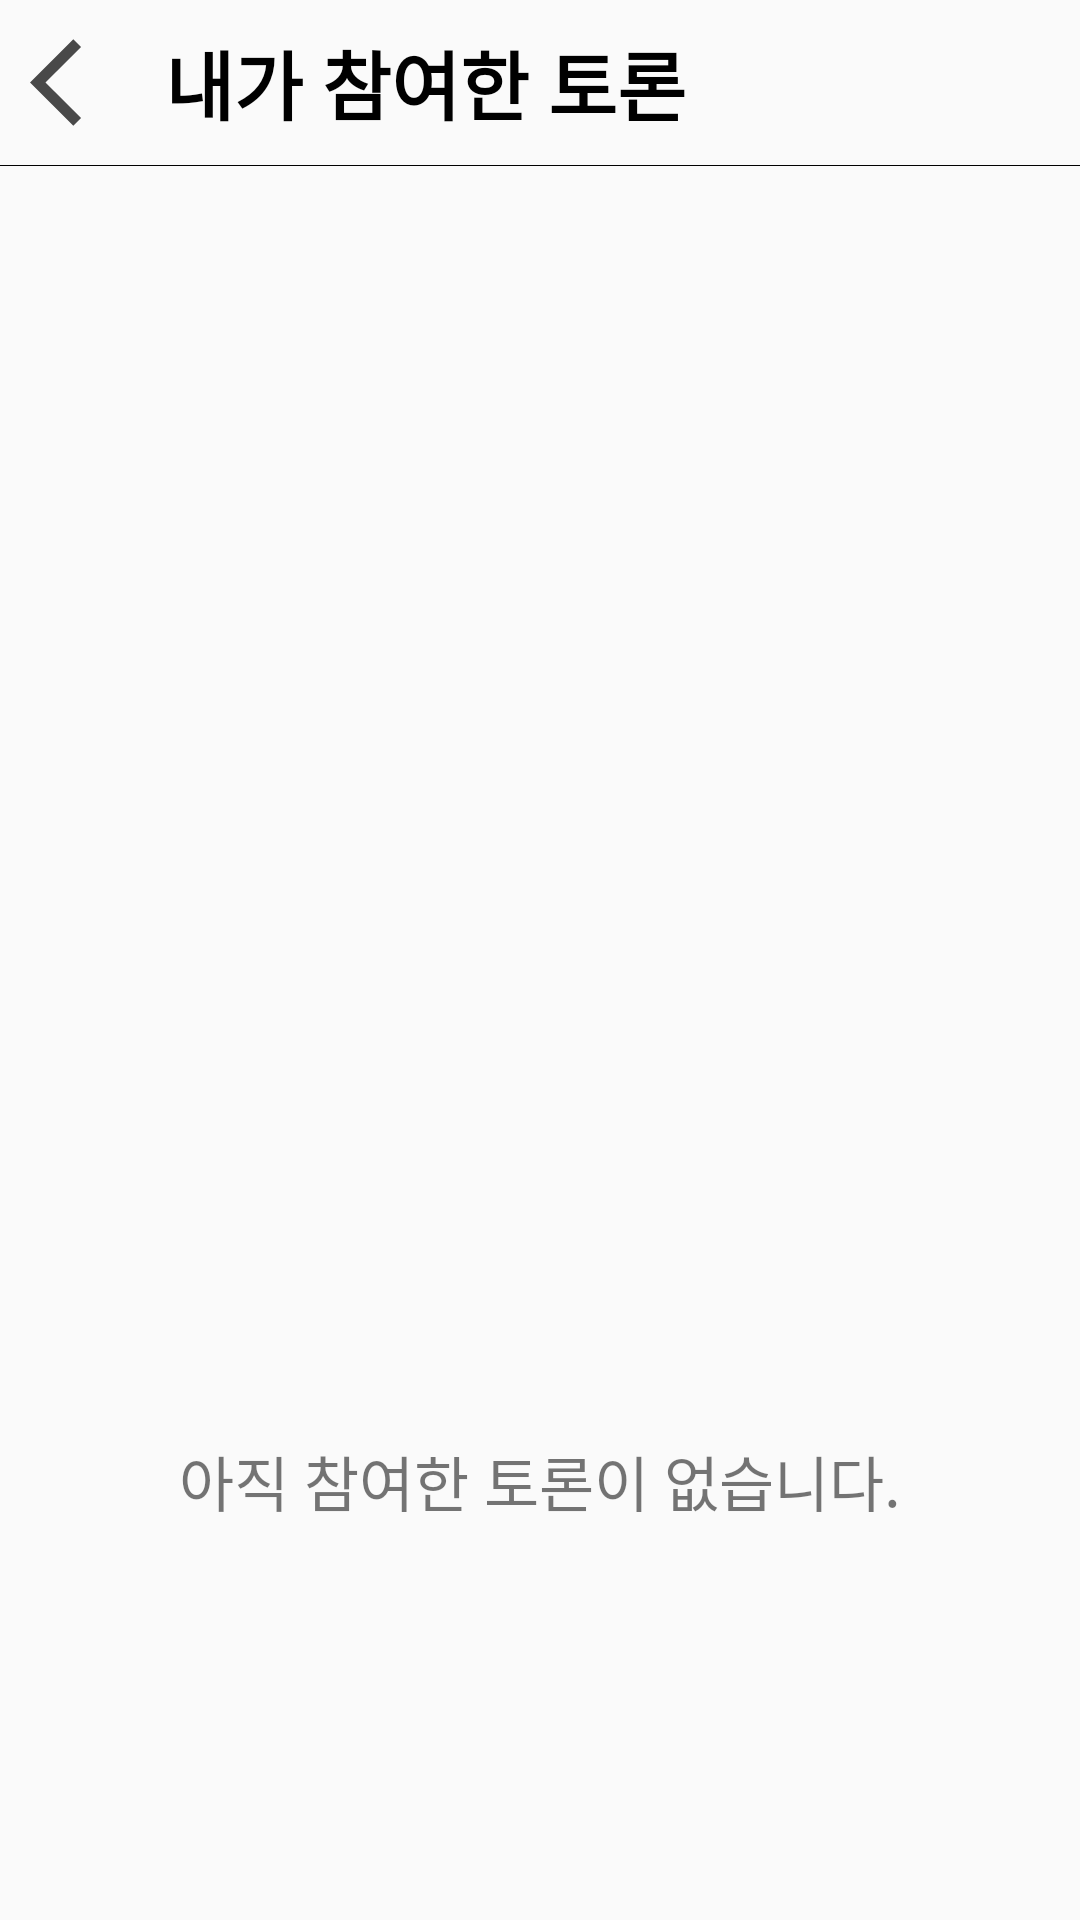

Screen size 1080w x 1920h. Icon name, then its box in pixels as (x1, y1, x2, y2):
arrow back: (30, 39, 81, 126)
